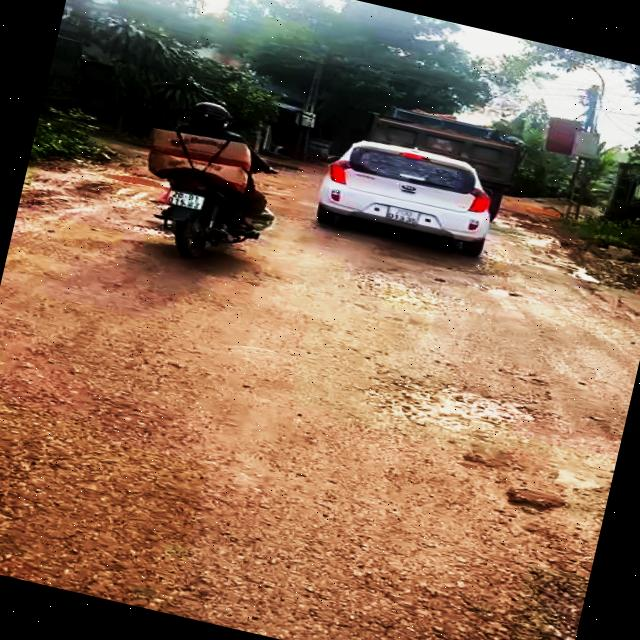pothole: (369, 362, 538, 447)
